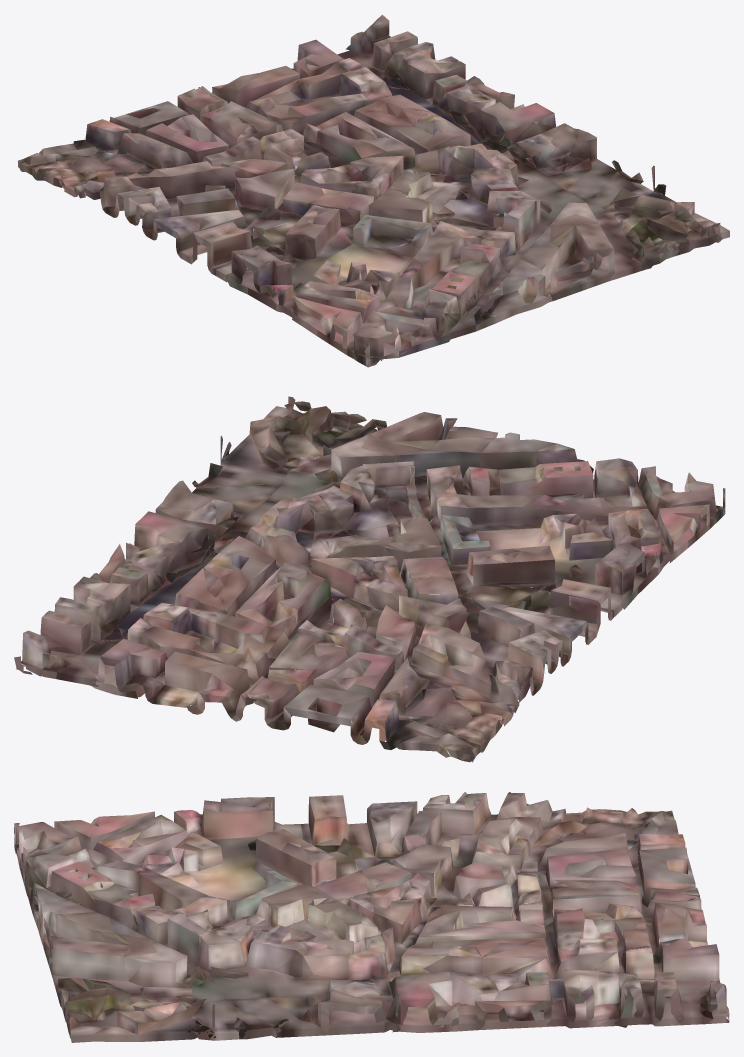
The picture shows the model from 3 angles, top to bottom: view 1: azimuth 30°, elevation 25°; view 2: azimuth 150°, elevation 25°; view 3: azimuth 270°, elevation 25°; orthographic projection. The views are drawn at different scales.
Visible parts, largest first — view 1: Mesh_0; view 2: Mesh_0; view 3: Mesh_0.
Boxes of the visible parts, left/top/right/bottom form: Mesh_0: left=18, top=14, right=729, bottom=367; Mesh_0: left=14, top=396, right=725, bottom=762; Mesh_0: left=14, top=792, right=729, bottom=1042.
Bounding box in the file's own units: 537 × 59.72 × 660.
2 materials, 2 textured.
